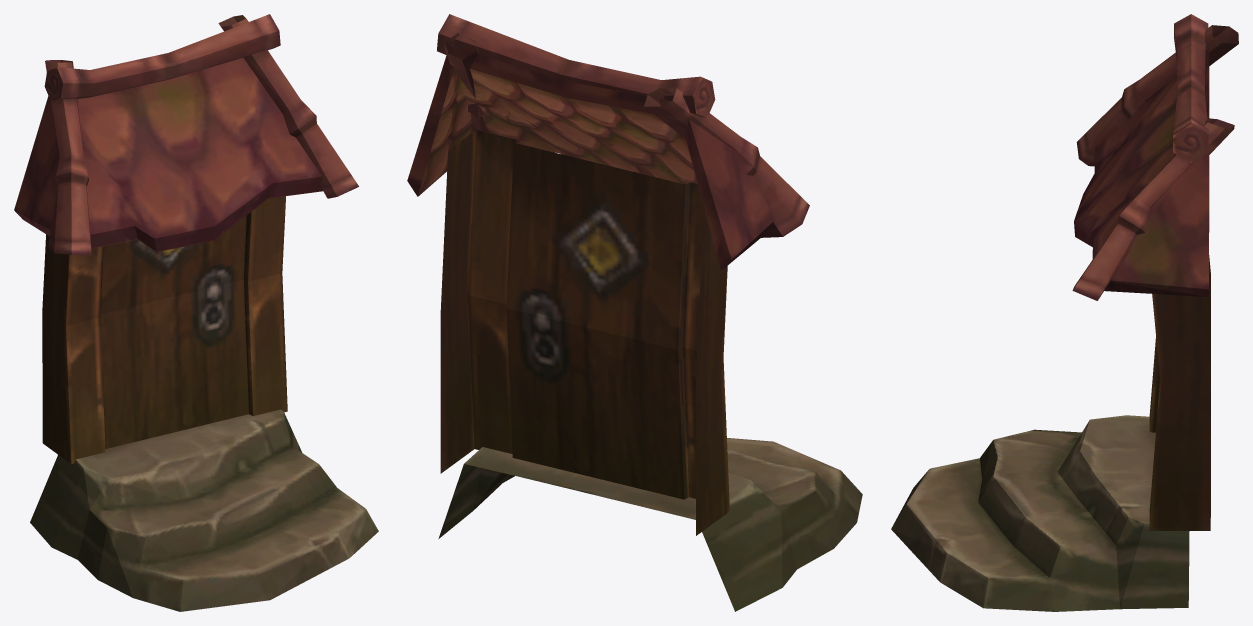
The model's file is mod_building_01_e.fbx.
3 views of the same model, side by side, from view 1: azimuth 30°, elevation 25°; view 2: azimuth 150°, elevation 25°; view 3: azimuth 270°, elevation 25° (orthographic). The views are drawn at different scales.
Visible parts, largest first — view 1: obj2.006; view 2: obj2.006; view 3: obj2.006.
Part boxes in pixels (x1,y1,x2,y2): obj2.006: (14,14,378,611); obj2.006: (407,14,862,611); obj2.006: (891,14,1238,611).
Bounding box in the file's own units: 3.23 × 4.67 × 3.08.
